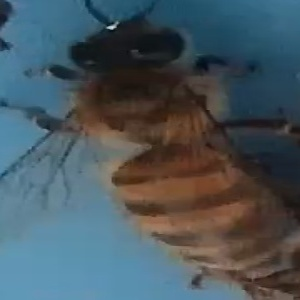bee: (25, 3, 300, 300)
